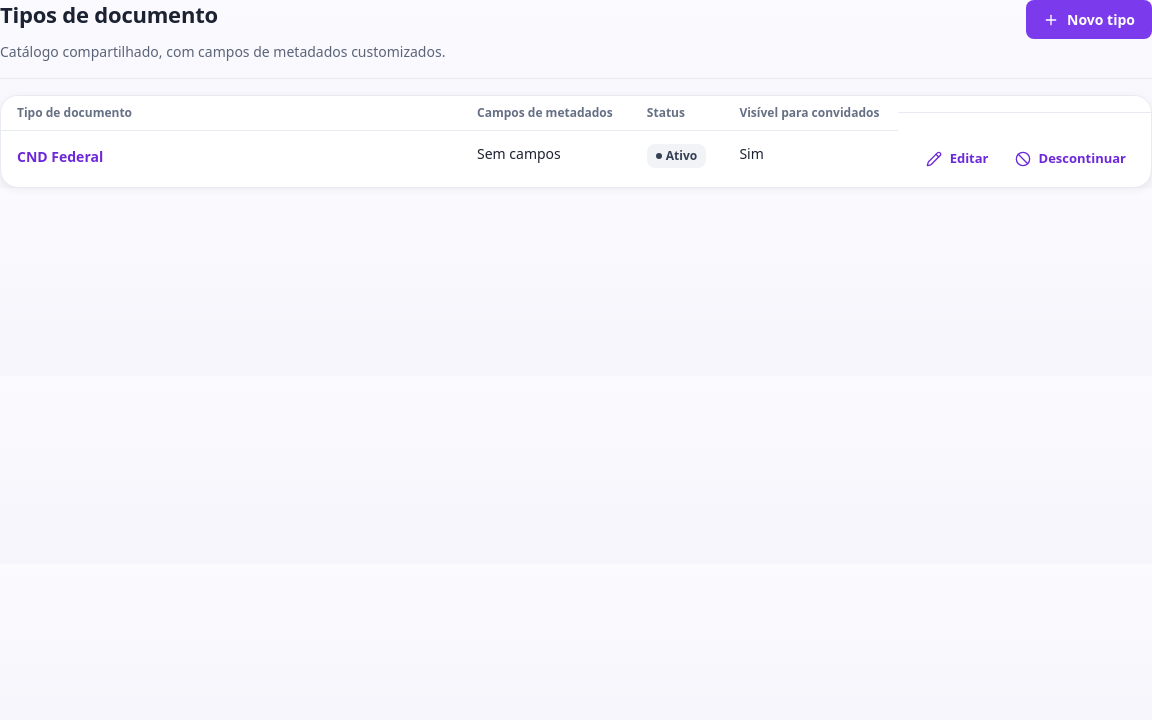
Test case: DocumentTypesCollection (A20) › blocks create with a duplicate-name inline error on CONFLICT
Click the button "Novo tipo" at (1089, 20), box [1026, 0, 1151, 39]
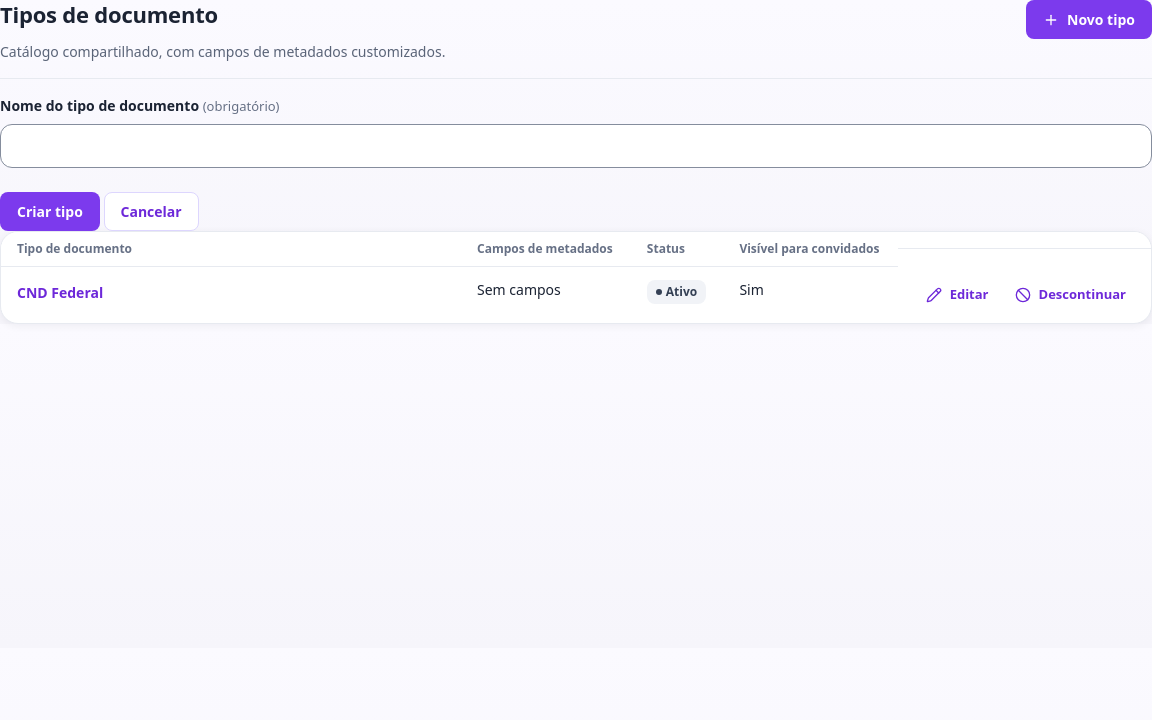
Type "CND Federal" into the field labelled "Nome do tipo de documento (obrigatório)" at (576, 146), box [0, 124, 1151, 168]
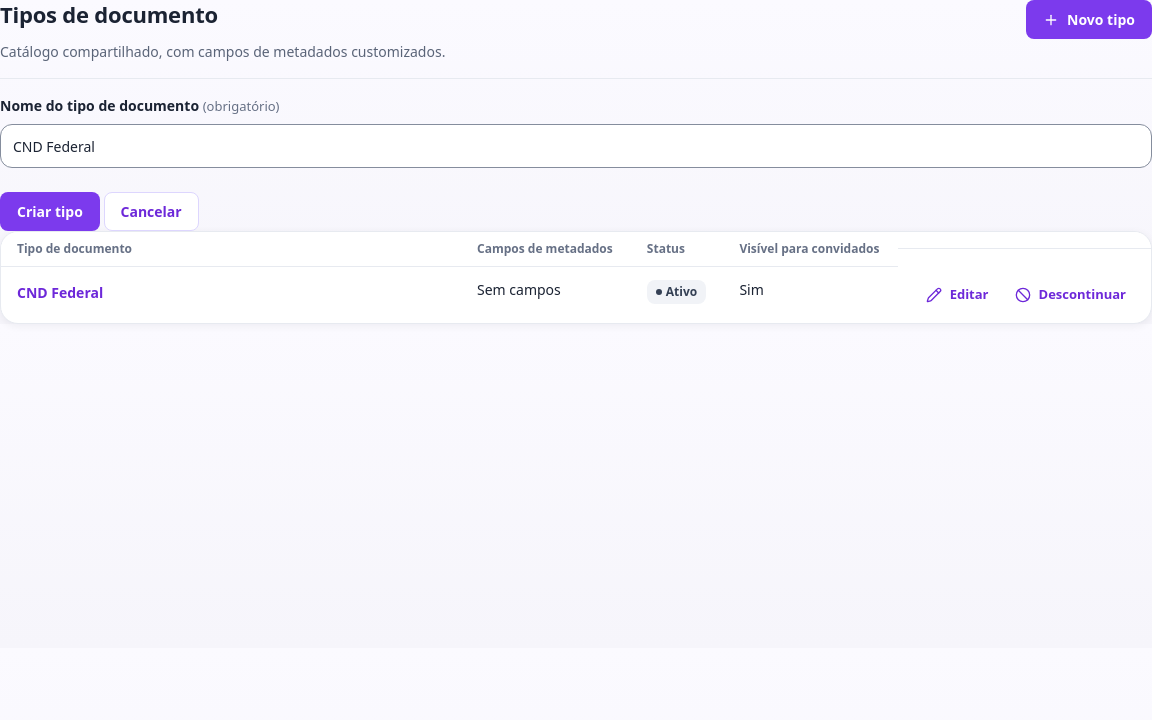
Click the button "Criar tipo" at (50, 212), box [0, 192, 100, 231]
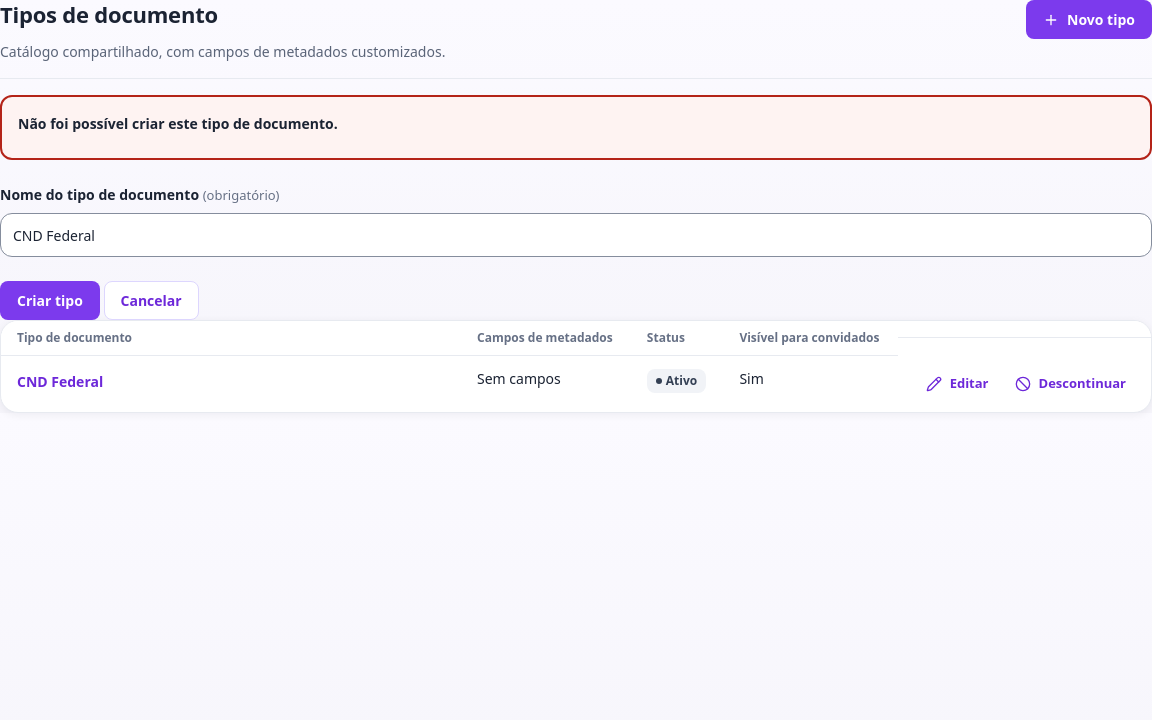
expect the text "Não foi possível criar este tipo de documento." is shown: met, box [18, 114, 338, 133]
